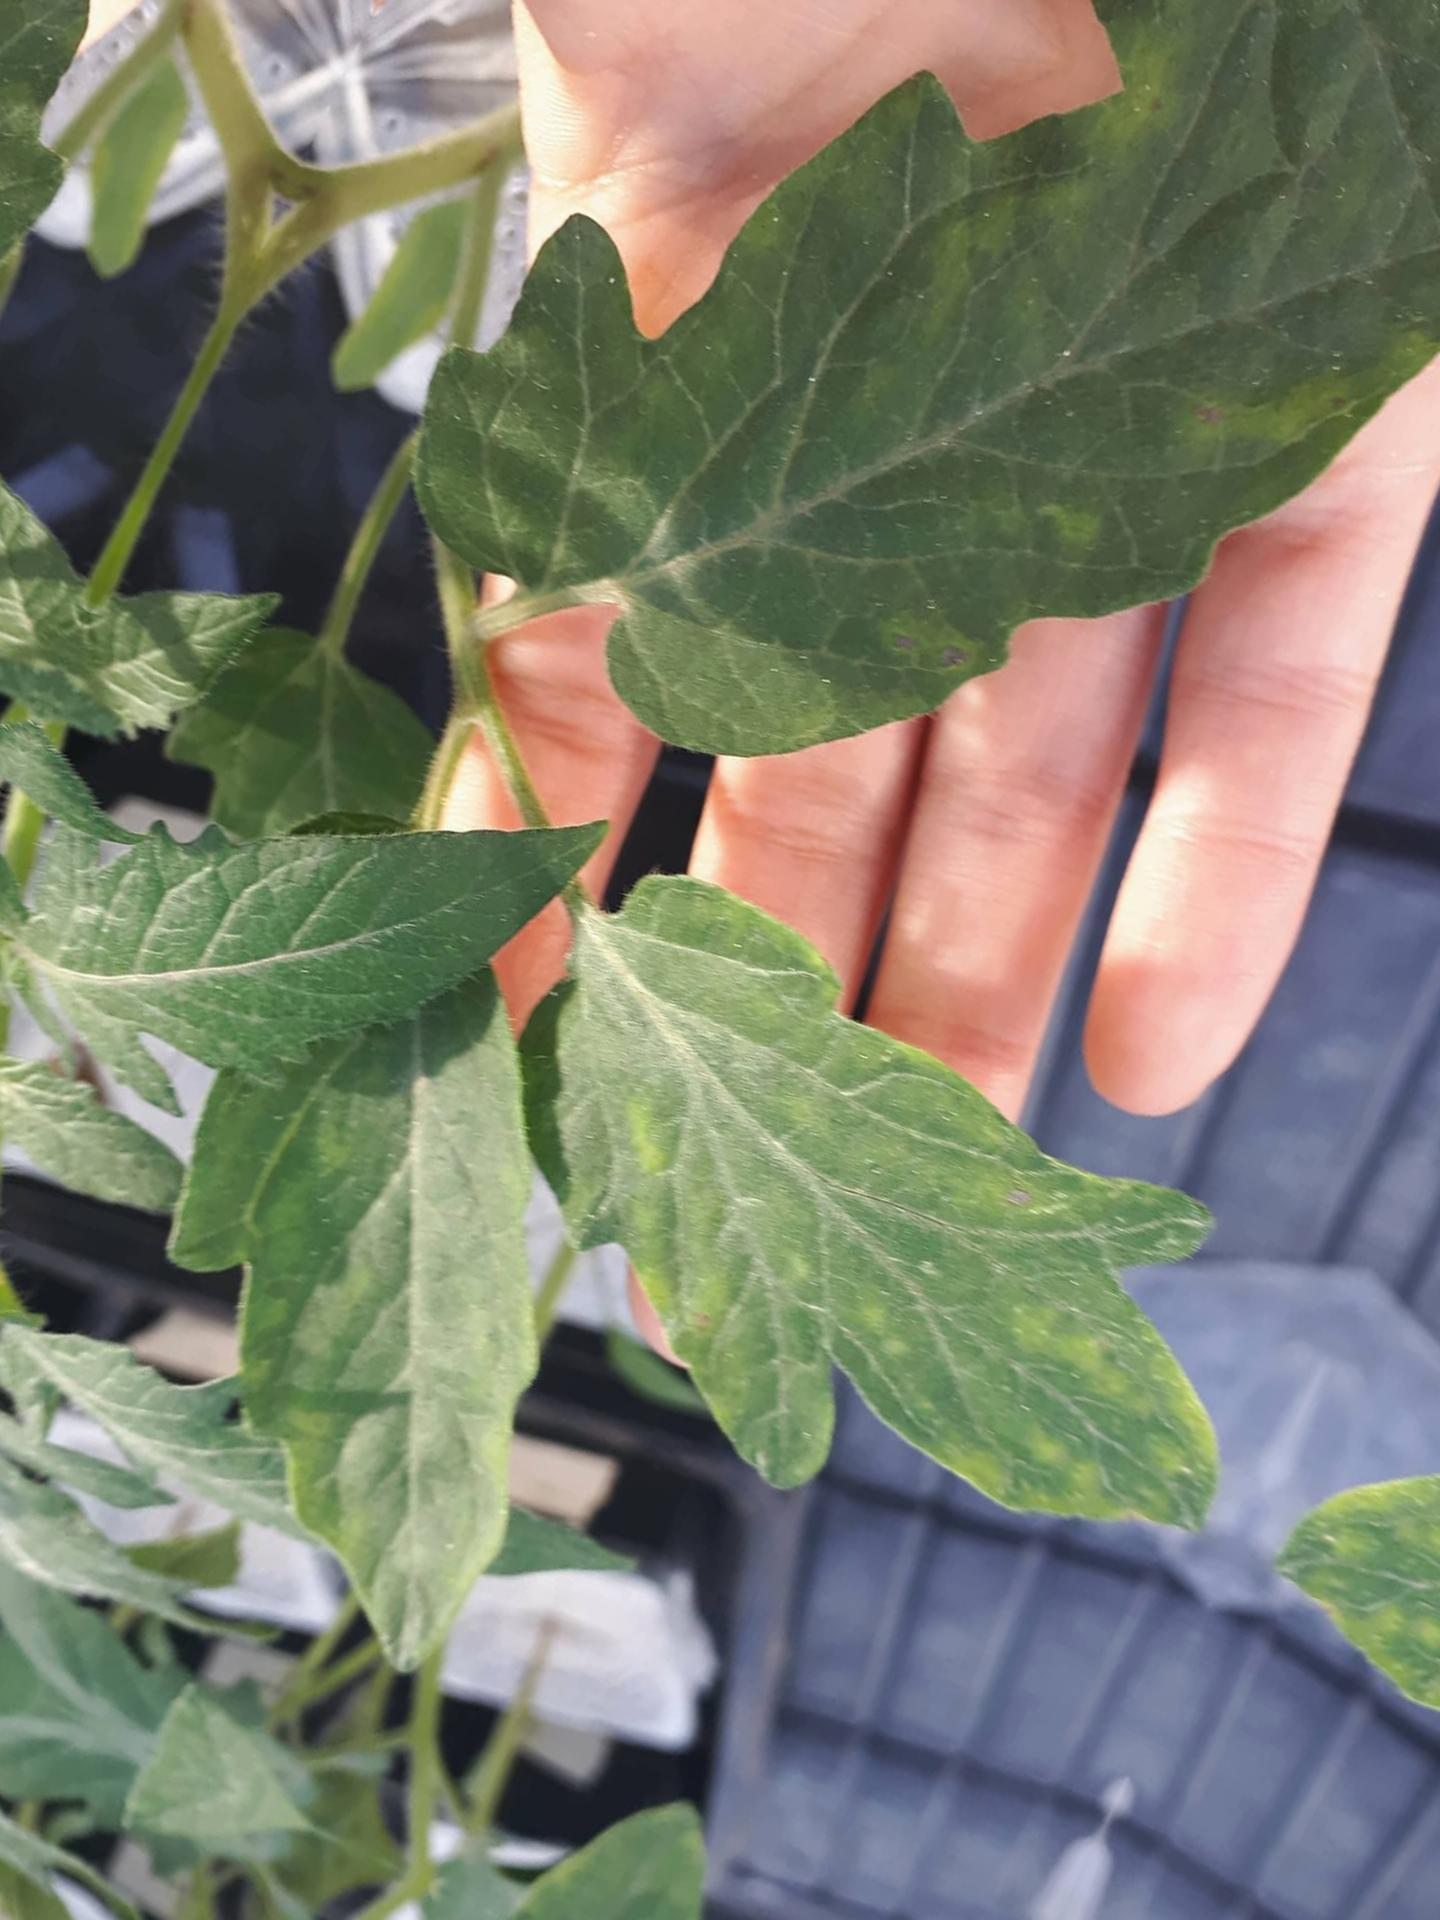Tomato mold leaf: (315, 0, 1440, 1002), (361, 852, 1386, 1700), (0, 569, 637, 1235)
